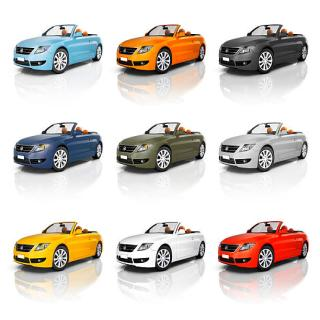Normal_vehicle: (222, 115, 308, 178), (15, 21, 102, 79), (119, 117, 209, 171), (219, 225, 311, 277), (14, 221, 108, 269), (120, 25, 203, 79), (116, 221, 200, 273), (16, 124, 105, 170), (218, 31, 303, 73)
